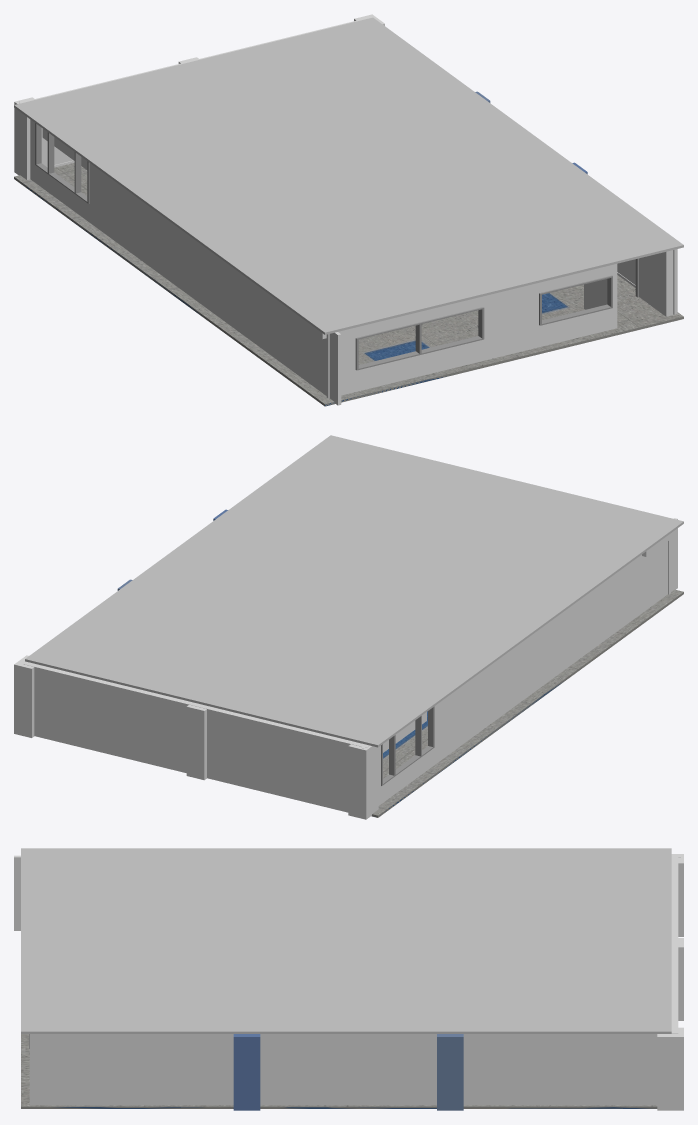
Rendered from Aulalala.fbx.
3 renders of one model, top to bottom at view 1: azimuth 30°, elevation 25°; view 2: azimuth 150°, elevation 25°; view 3: azimuth 270°, elevation 25°, orthographic. The views are drawn at different scales.
Parts seen in each view (by area): view 1: Cube.021, Cube.004, Cube.010, Cube.026, Cube.024, Cube.005, Cube.017, Cube.002, Cube.003; view 2: Cube.021, Cube.002, Cube.004, Cube.010, Cube.017, Cube.015, Cube.013, Cube.024; view 3: Cube.021, Cube.003, Cube.010, Cube.009, Cube.015, Cube.014, Cube.002, Cube.004, Cube.017, Cube.013.
Boxes of the visible parts, x1,y1,x2,y2 form: Cube.021: [14, 17, 683, 334]; Cube.004: [19, 101, 341, 405]; Cube.010: [14, 163, 683, 406]; Cube.026: [326, 264, 617, 398]; Cube.024: [35, 123, 612, 370]; Cube.005: [297, 250, 673, 339]; Cube.017: [14, 97, 45, 179]; Cube.002: [19, 17, 368, 166]; Cube.003: [617, 249, 677, 314]; Cube.021: [25, 435, 683, 747]; Cube.002: [23, 661, 369, 812]; Cube.004: [361, 518, 677, 805]; Cube.010: [371, 589, 683, 817]; Cube.017: [348, 744, 378, 819]; Cube.015: [14, 655, 34, 737]; Cube.013: [186, 705, 206, 780]; Cube.024: [381, 706, 434, 785]; Cube.021: [21, 848, 671, 1033]; Cube.003: [29, 1034, 657, 1105]; Cube.010: [21, 1034, 657, 1108]; Cube.009: [233, 1034, 260, 1110]; Cube.015: [657, 1027, 683, 1110]; Cube.014: [437, 1034, 463, 1110]; Cube.002: [671, 855, 678, 1033]; Cube.004: [14, 855, 680, 930]; Cube.017: [671, 854, 683, 936]; Cube.013: [678, 938, 683, 1020].
Size of the model in its own units: 3246 by 652 by 4943.
